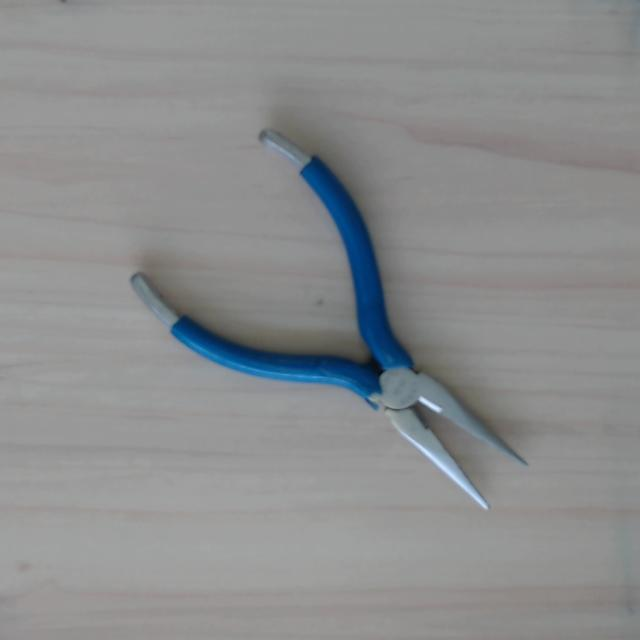Tang-Jepit-Biru: (121, 118, 586, 569)
